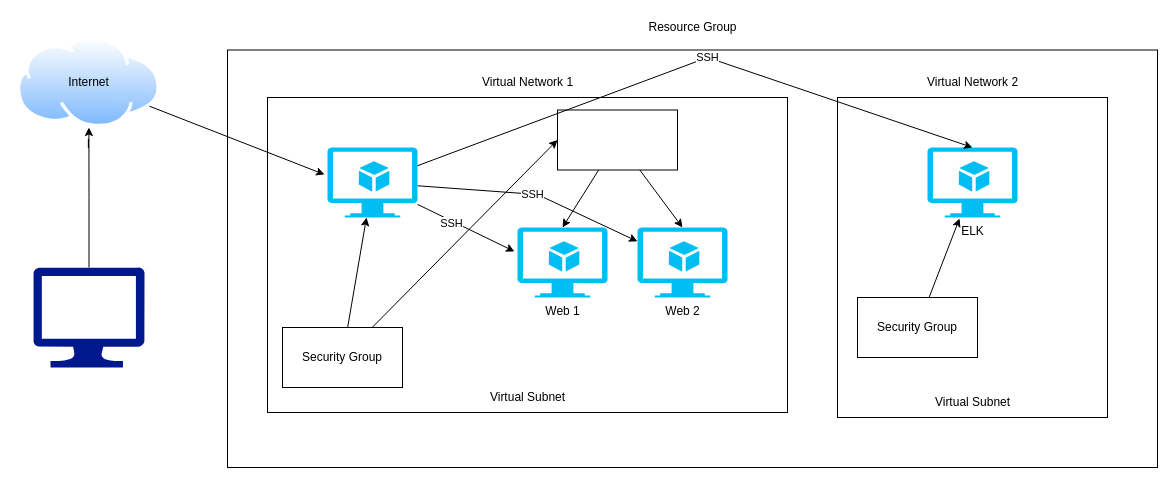
Some shapes in this 1175 by 485 pixel diagram are drawn without their labels. Each missing label, with the centre of its shape:
"Jumpbox" goes at point (372, 182).
"Load balancer" goes at point (617, 139).
"Personal Computer" goes at point (88, 317).
